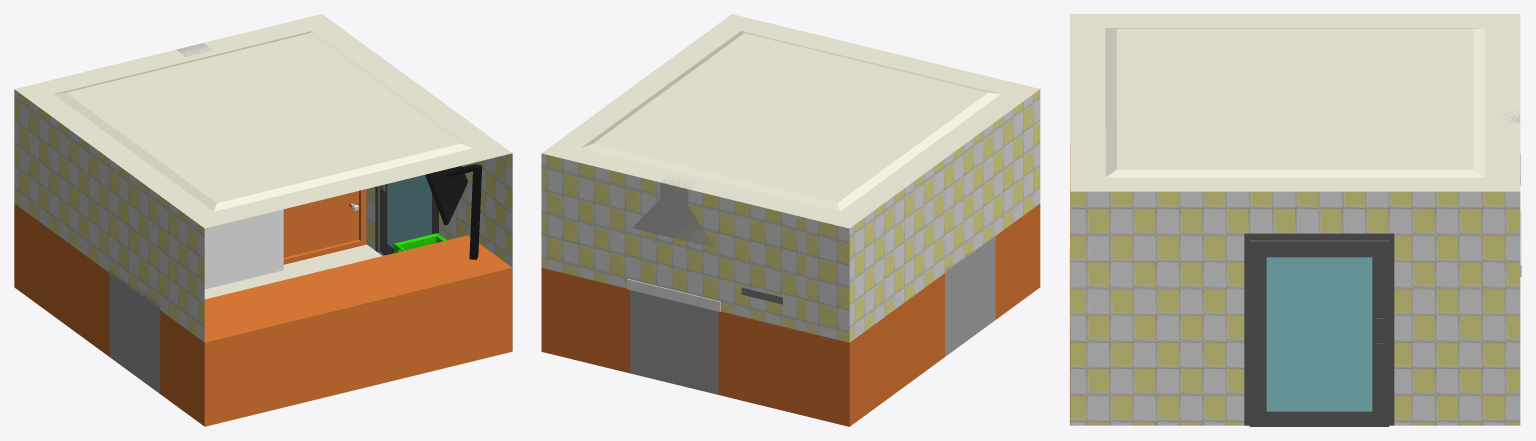
File: Kitchen with materials and textures.fbx
The picture shows the model from 3 angles, left to right: view 1: azimuth 30°, elevation 25°; view 2: azimuth 150°, elevation 25°; view 3: azimuth 270°, elevation 25°; orthographic projection. The views are drawn at different scales.
Visible parts, largest first — view 1: Cube.008; view 2: Cube.008; view 3: Cube.008.
Part boxes in pixels (x1,y1,x2,y2): Cube.008: (14,14,512,426); Cube.008: (541,14,1040,426); Cube.008: (1069,14,1521,426).
Size of the model in its own units: 708 by 436 by 751.
